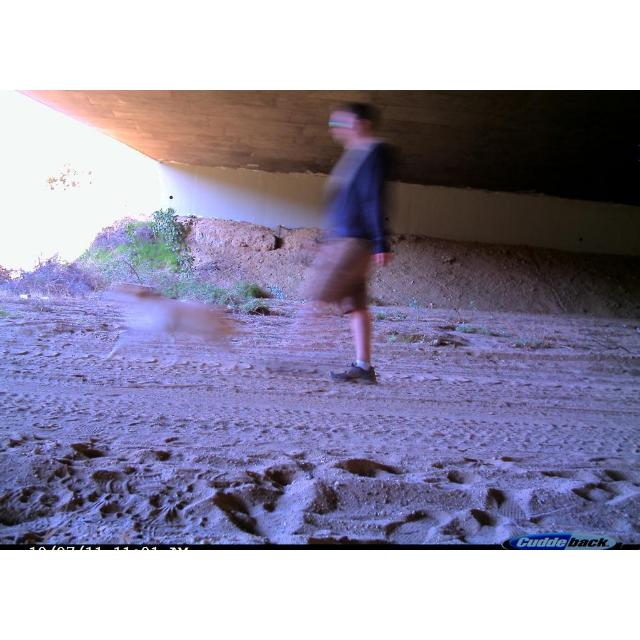animals: (92, 272, 252, 378)
